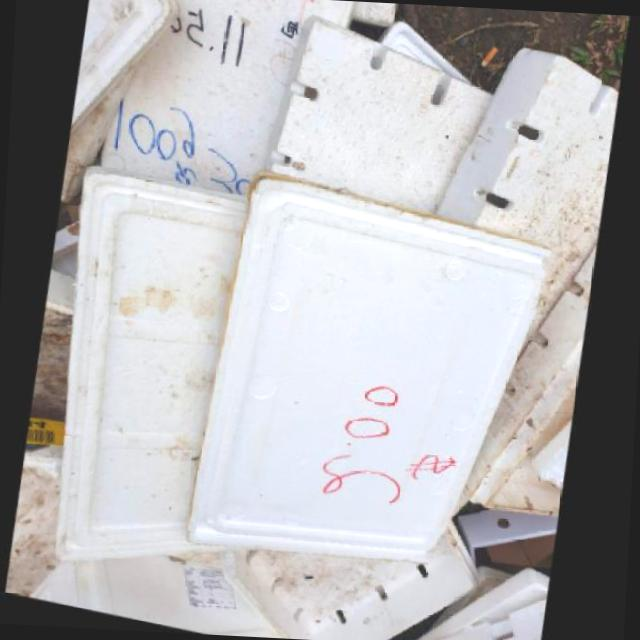xop: (188, 177, 555, 565), (56, 166, 252, 561), (442, 45, 626, 376), (274, 16, 499, 214), (221, 524, 481, 640)
